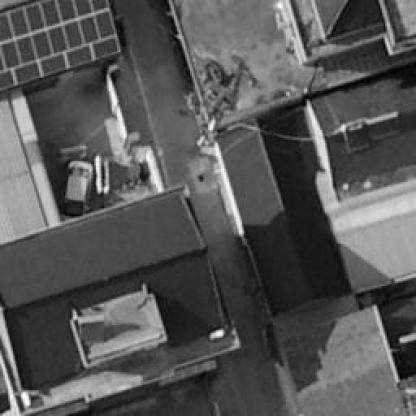solar-pv-panel: (0, 0, 122, 91)
